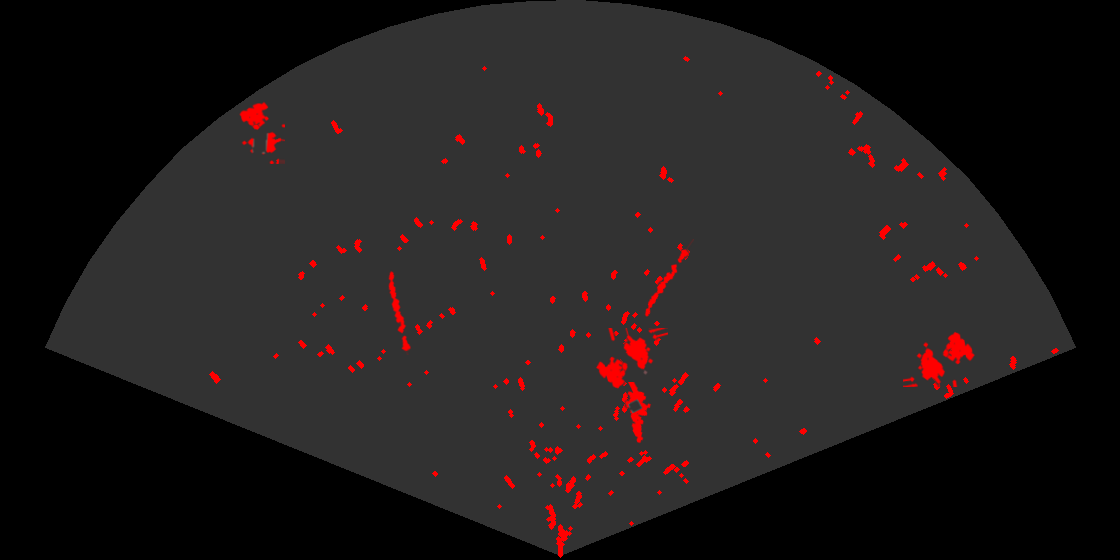cage: (594, 328, 668, 390), (903, 330, 976, 387), (238, 100, 285, 164)
chain: (643, 239, 694, 318), (387, 269, 413, 355)
frogman: (624, 382, 653, 445)
